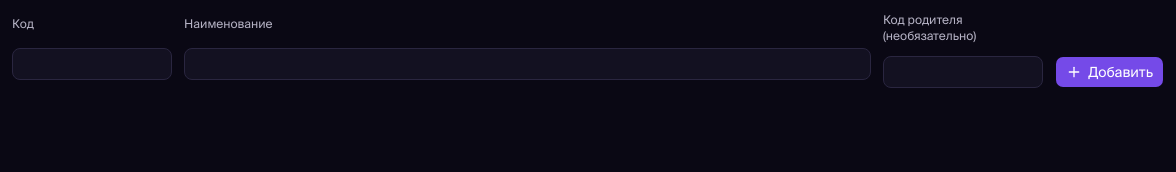
Test: ManualAddForm › zod: пустые обязательные поля не вызывают API
Click the button "Добавить" at (1109, 72), box [1055,56,1164,88]
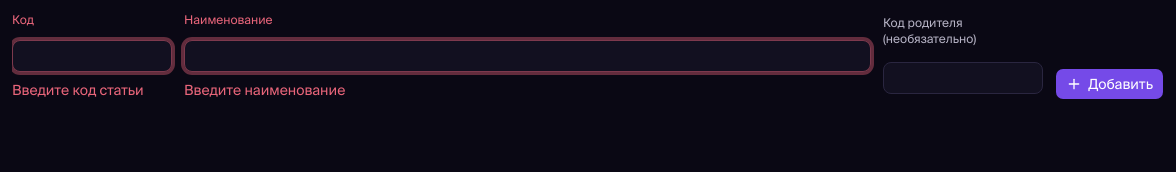
Check: the text "Введите код статьи" is shown, box [12,82,144,98]
Check: the text "Введите наименование" is shown, box [184,82,345,98]
